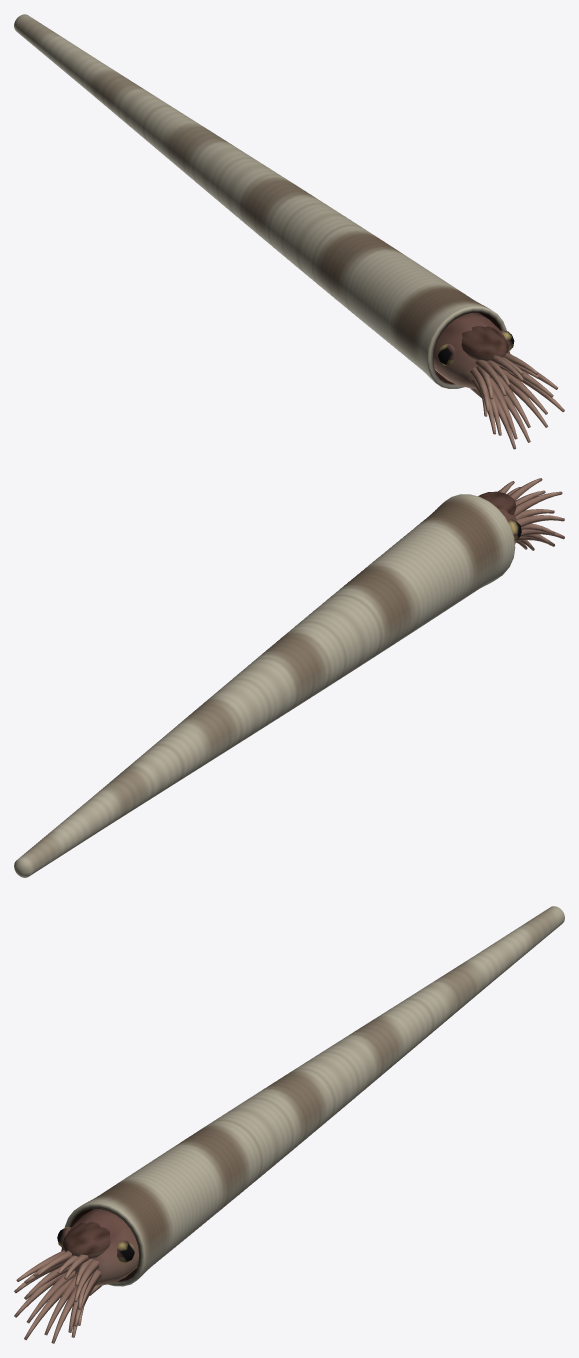
File: ProterovaginocerasIncognitum.fbx
3 views of the same model, one above another, from view 1: azimuth 30°, elevation 25°; view 2: azimuth 150°, elevation 25°; view 3: azimuth 330°, elevation 25° (orthographic).
Visible parts, largest first — view 1: ProterovaginocerasIncognitum; view 2: ProterovaginocerasIncognitum; view 3: ProterovaginocerasIncognitum.
Part boxes in pixels (x1=…): ProterovaginocerasIncognitum: x1=14, y1=14, x2=564, y2=449; ProterovaginocerasIncognitum: x1=14, y1=478, x2=564, y2=877; ProterovaginocerasIncognitum: x1=14, y1=906, x2=564, y2=1343.
Bounding box in the file's own units: 0.2068 × 0.2354 × 2.28.
